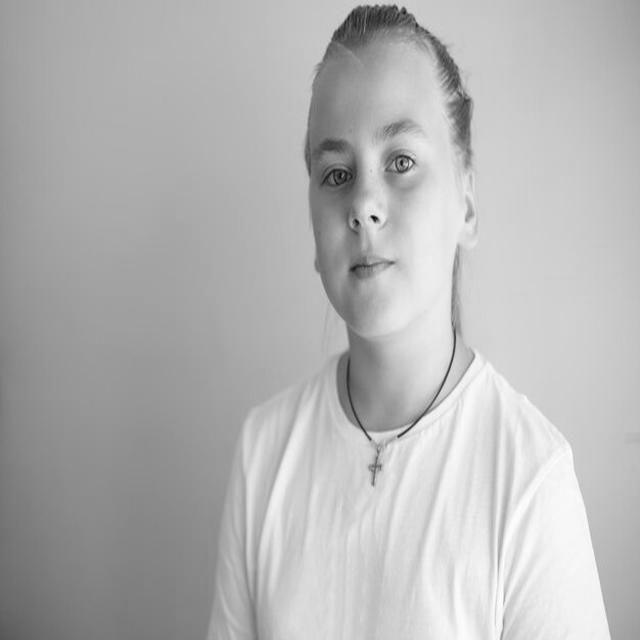Neutral: (307, 45, 460, 338)
